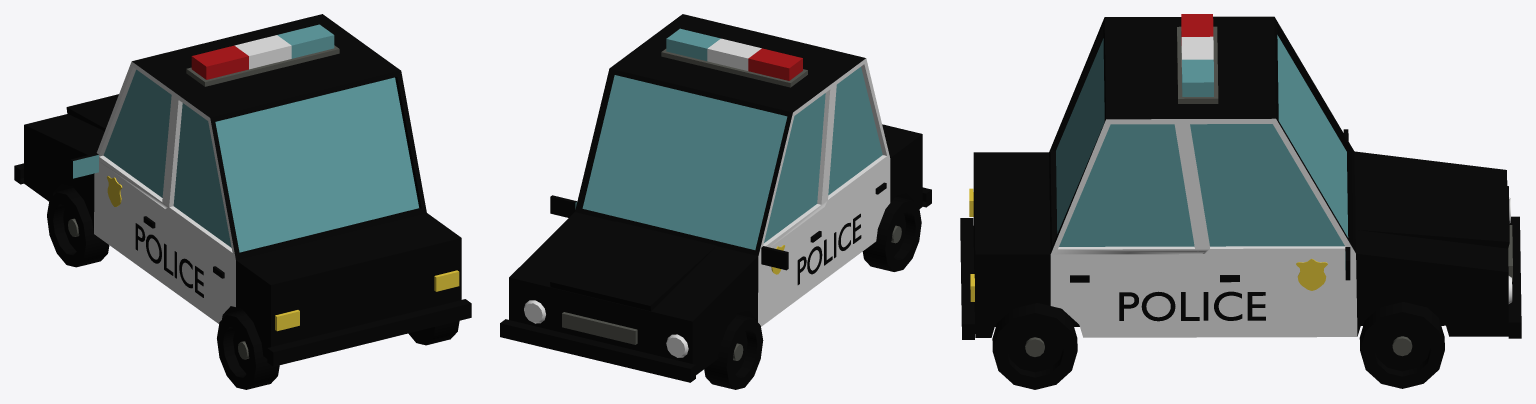
Rendered from police_car.fbx.
3 views of the same model, side by side, from view 1: azimuth 30°, elevation 25°; view 2: azimuth 150°, elevation 25°; view 3: azimuth 270°, elevation 25° (orthographic). The views are drawn at different scales.
Parts seen in each view (by area): view 1: police car; view 2: police car; view 3: police car.
Boxes of the visible parts, x1=… form: police car: x1=14, y1=14, x2=471, y2=389; police car: x1=500, y1=14, x2=931, y2=389; police car: x1=960, y1=14, x2=1521, y2=389.
Bounding box in the file's own units: 232 × 235 × 418.
